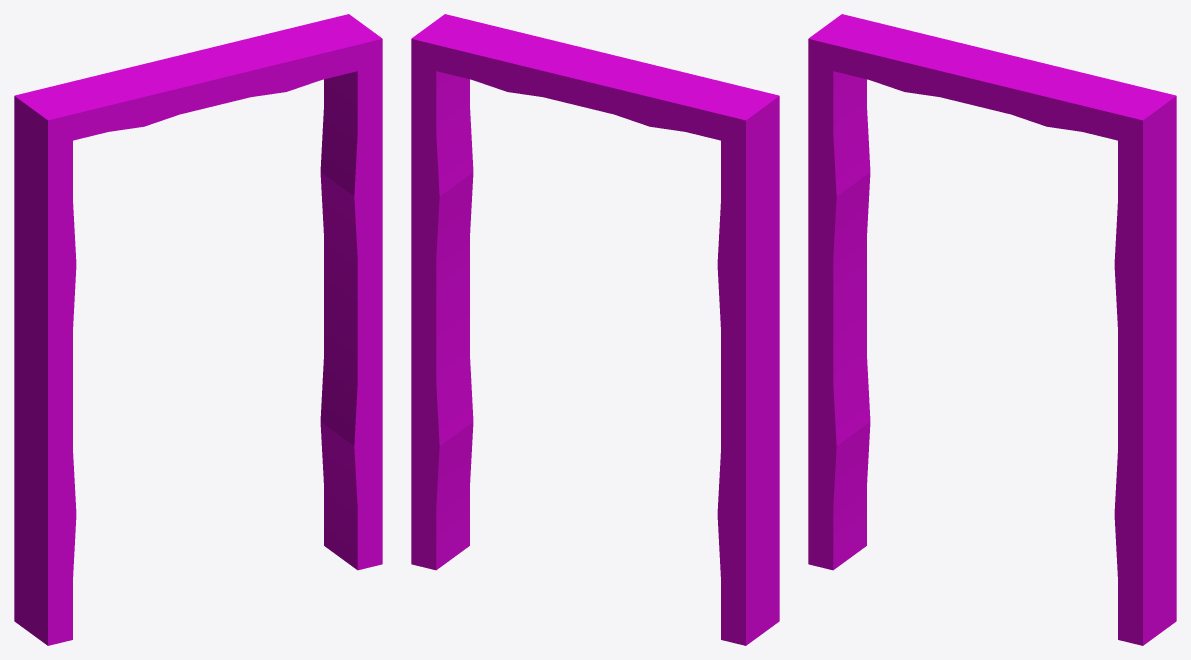
File: door_frame.fbx
3 renders of one model, left to right at view 1: azimuth 30°, elevation 25°; view 2: azimuth 150°, elevation 25°; view 3: azimuth 330°, elevation 25°, orthographic.
Visible parts, largest first — view 1: door_frame; view 2: door_frame; view 3: door_frame.
Part boxes in pixels (<box>): door_frame: <box>14,14,382,645</box>; door_frame: <box>411,14,779,645</box>; door_frame: <box>808,14,1176,645</box>.
Size of the model in its own units: 200 by 300 by 35.
